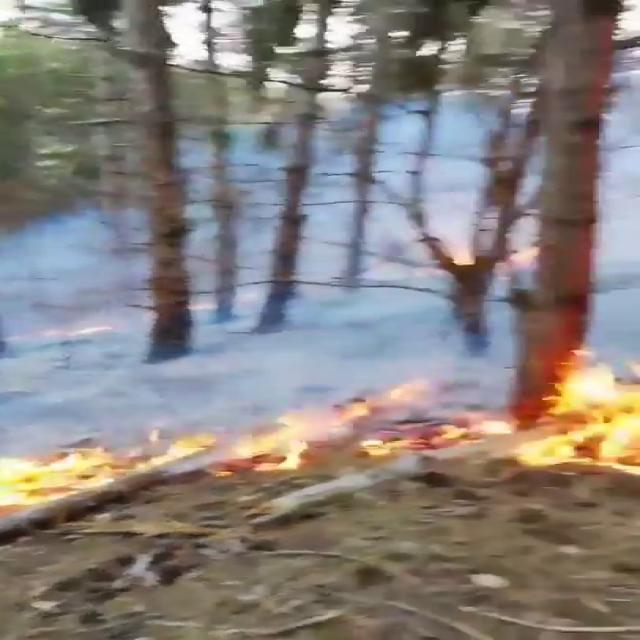Fire: (7, 391, 360, 515), (474, 346, 640, 476)
Smoke: (17, 91, 640, 416)
